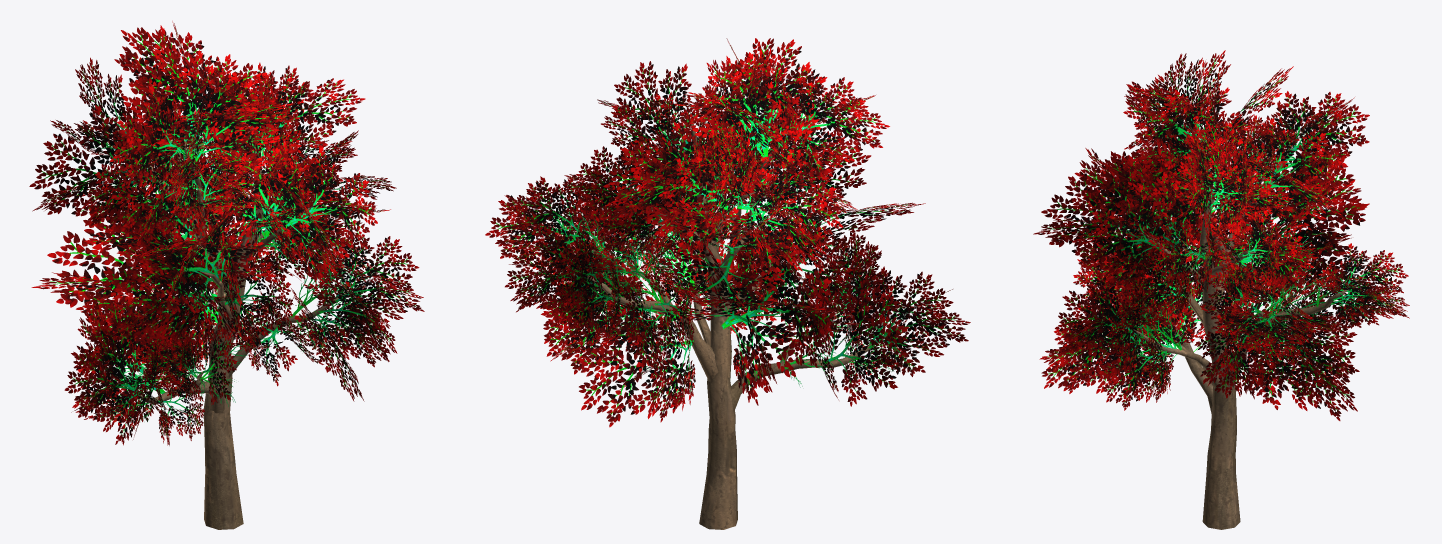
The model's file is Tree_Large_01.fbx.
3 views of the same model, side by side, from view 1: azimuth 30°, elevation 25°; view 2: azimuth 150°, elevation 25°; view 3: azimuth 270°, elevation 25° (orthographic). The views are drawn at different scales.
Visible parts, largest first — view 1: Tree_Large_01_LOD0; view 2: Tree_Large_01_LOD0; view 3: Tree_Large_01_LOD0.
Part boxes in pixels (<box>): Tree_Large_01_LOD0: <box>29,21,424,529</box>; Tree_Large_01_LOD0: <box>485,38,970,529</box>; Tree_Large_01_LOD0: <box>1033,50,1409,529</box>.
Size of what is drawn, in the model's own units: 15.37 by 17.98 by 13.9.
1 material, 1 textured.
